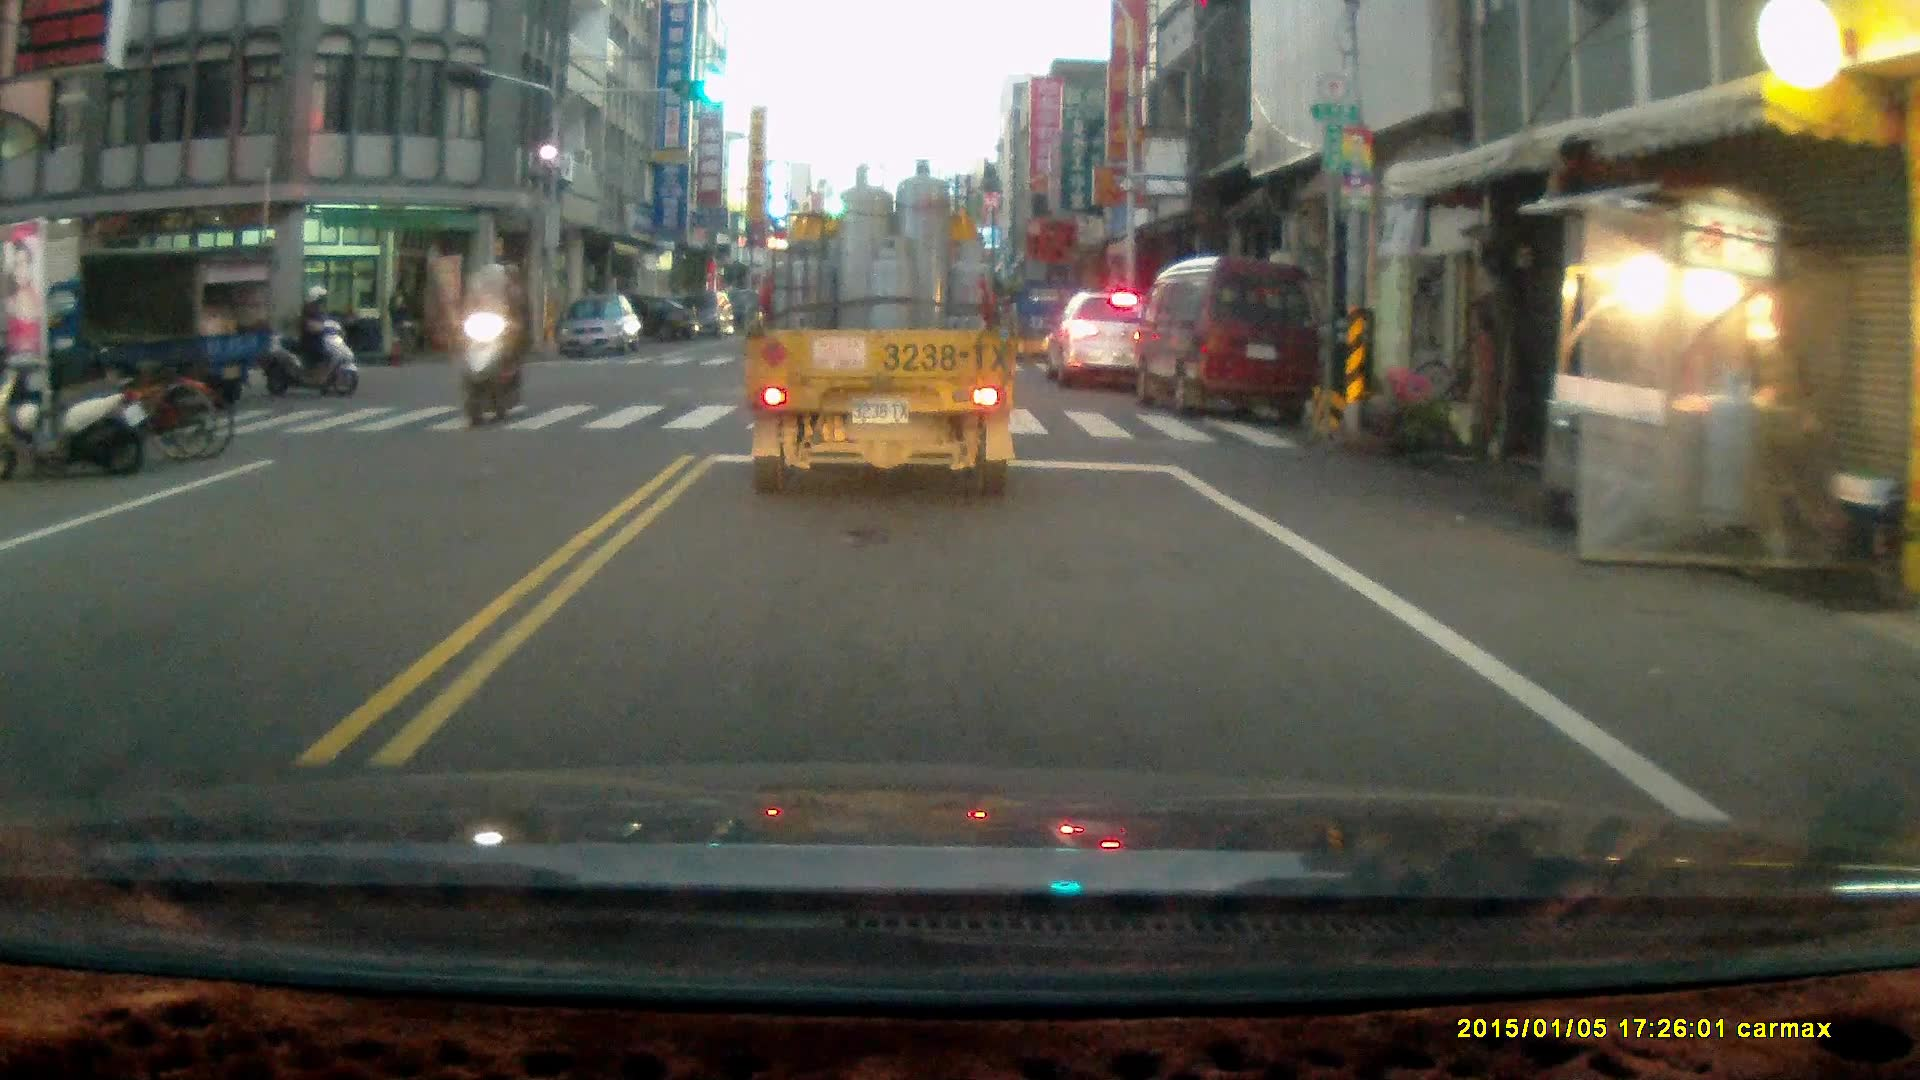pedestrian: (383, 282, 415, 362)
rider: (454, 259, 531, 426), (261, 283, 358, 398)
vehicle: (746, 168, 1022, 508), (33, 247, 273, 418), (1133, 265, 1325, 426), (1043, 290, 1163, 395), (579, 299, 699, 357), (557, 296, 645, 359), (653, 289, 731, 339)
